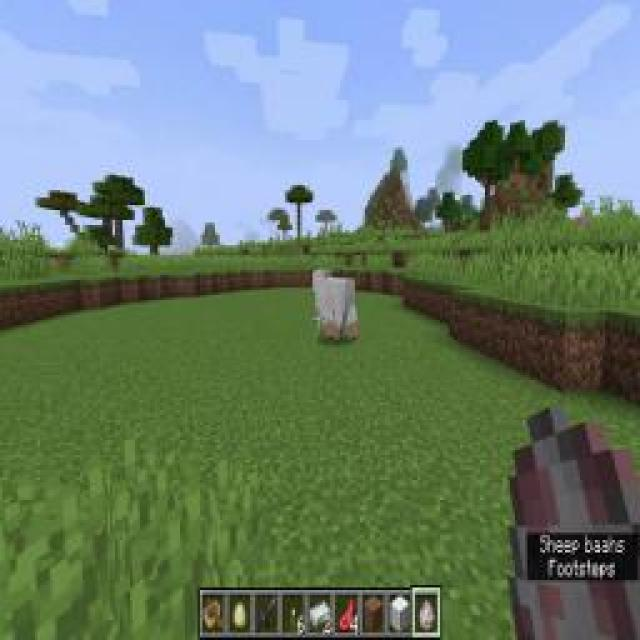Sheep: (312, 264, 360, 348)
